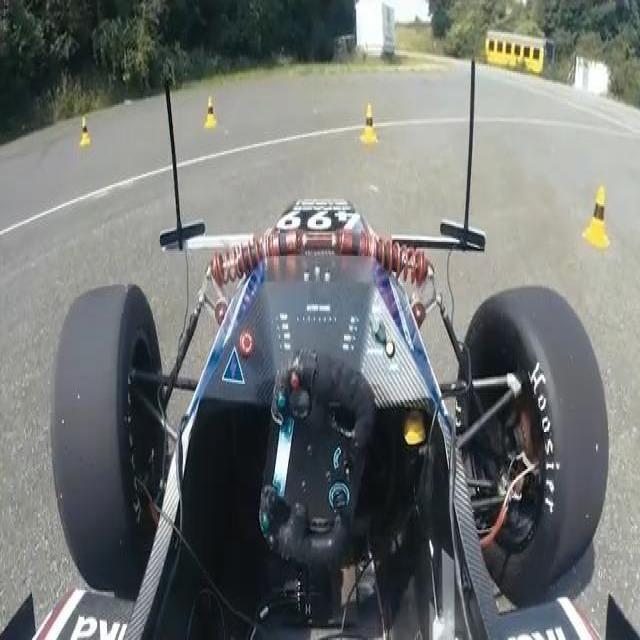yellow_cone: (581, 186, 610, 248), (359, 103, 378, 144), (204, 96, 218, 129), (80, 118, 92, 148)
